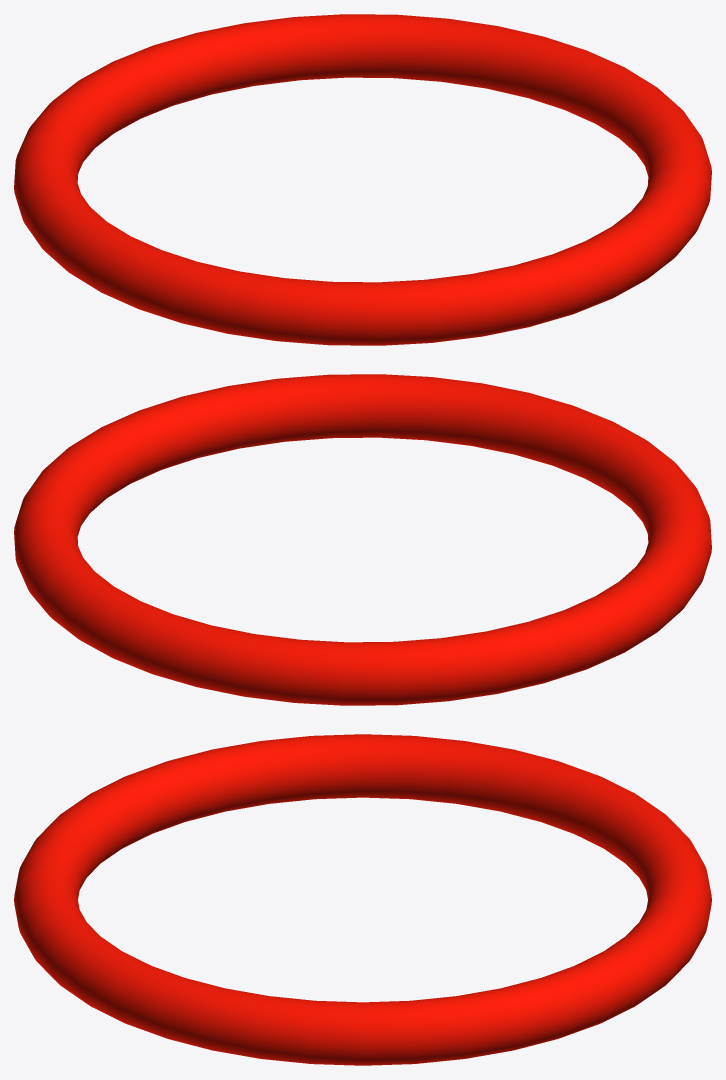
File: RingRed.fbx
3 views of the same model, one above another, from view 1: azimuth 30°, elevation 25°; view 2: azimuth 150°, elevation 25°; view 3: azimuth 270°, elevation 25° (orthographic).
Parts seen in each view (by area): view 1: pTorus1; view 2: pTorus1; view 3: pTorus1.
Part boxes in pixels (x1,y1,x2,y2): pTorus1: (14,14,711,345); pTorus1: (14,374,711,705); pTorus1: (14,734,711,1065).
Bounding box in the file's own units: 4.4 × 0.4 × 4.4.
Materials: 1 (1 with a texture image).
